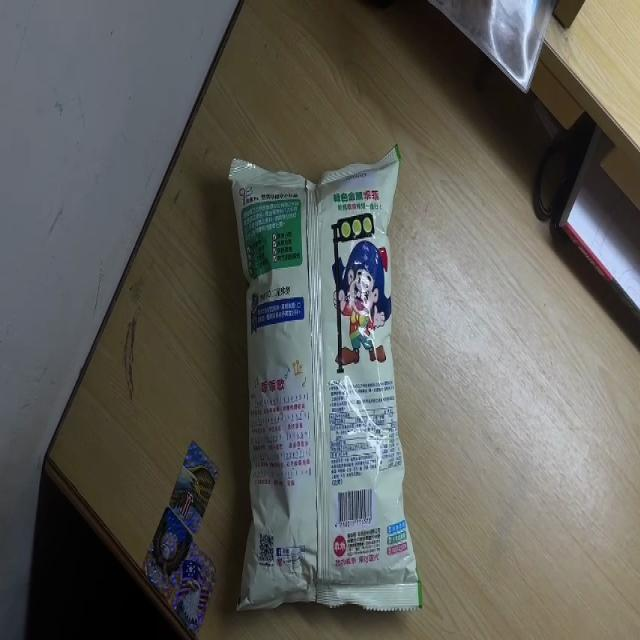Good-Luck: (227, 142, 425, 616)
